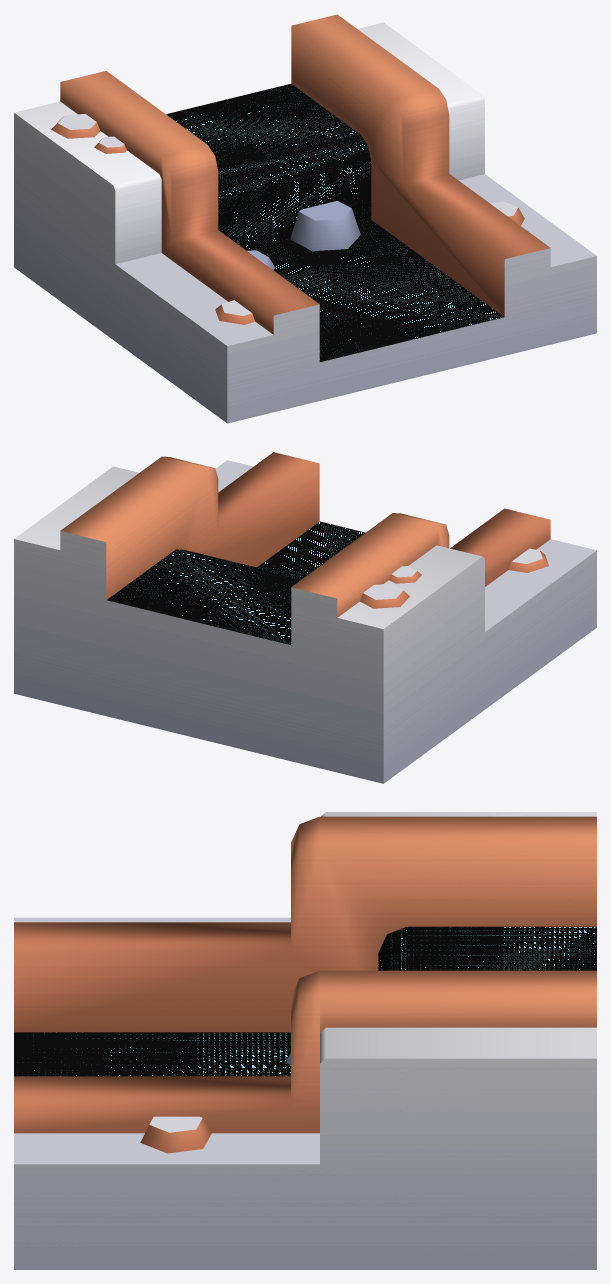
File: tower-defense-kit--snow-tile-river-waterfall.glb
3 renders of one model, top to bottom at view 1: azimuth 30°, elevation 25°; view 2: azimuth 150°, elevation 25°; view 3: azimuth 270°, elevation 25°, orthographic. The views are drawn at different scales.
Visible parts, largest first — view 1: snow-tile-river-waterfall; view 2: snow-tile-river-waterfall; view 3: snow-tile-river-waterfall.
Boxes of the visible parts, x1=… form: snow-tile-river-waterfall: x1=14, y1=14, x2=596, y2=423; snow-tile-river-waterfall: x1=14, y1=452, x2=596, y2=783; snow-tile-river-waterfall: x1=14, y1=812, x2=596, y2=1269.
Size of the model in its own units: 1 by 0.45 by 1.
1 material, 1 textured.
